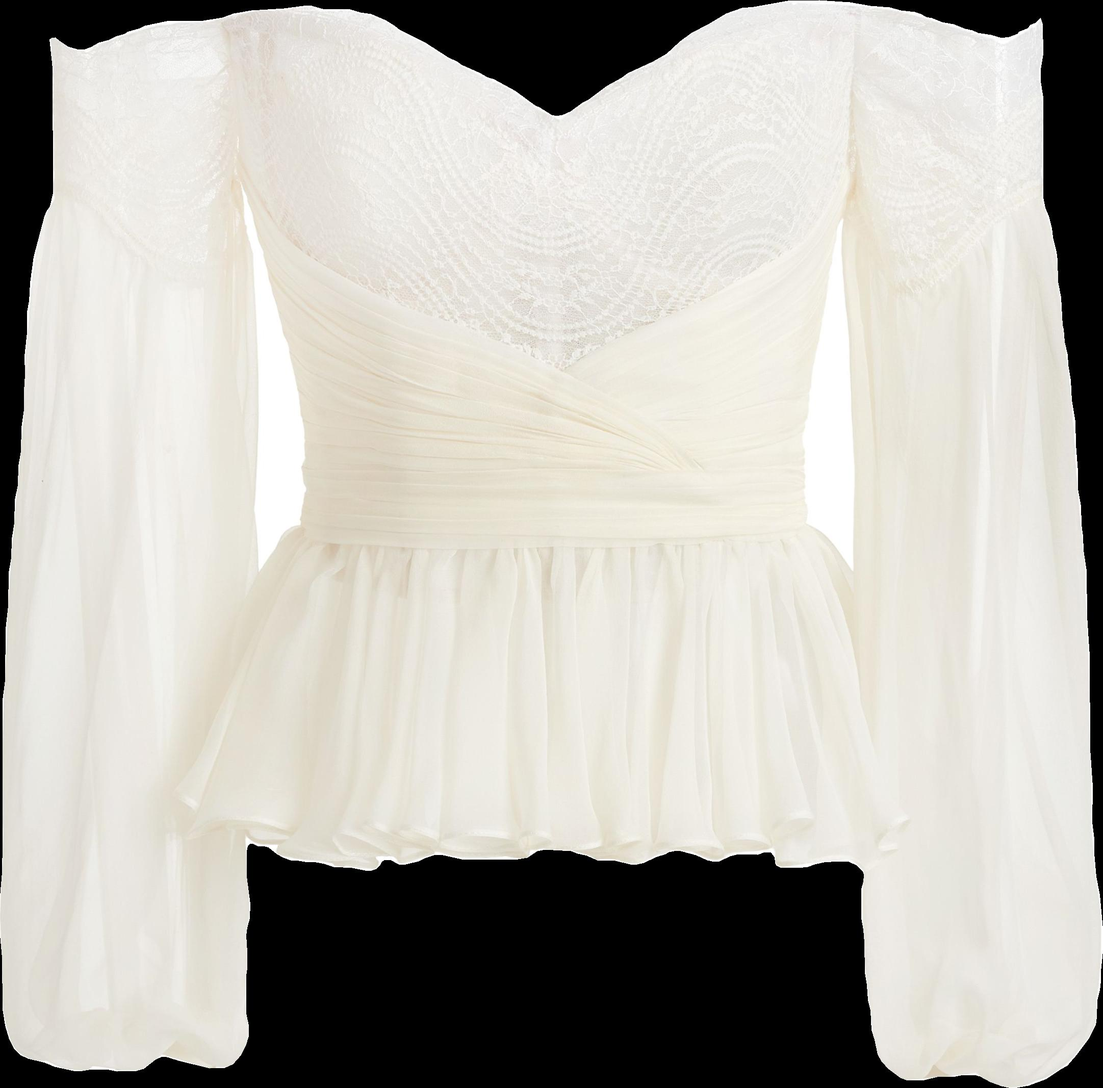Bodice: (177, 2, 897, 871)
Neckline: (227, 0, 859, 132), (293, 514, 815, 559)
Sleeve: (834, 2, 1102, 1086), (1, 13, 266, 1072)
Sleeveline: (852, 4, 1047, 49), (49, 16, 227, 56)
Waistline: (174, 813, 893, 874)
